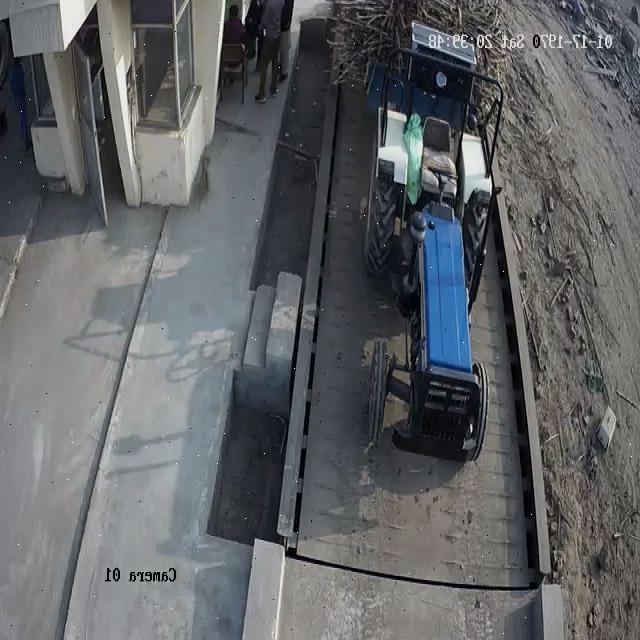Tratores - v5 YOLO V8L 2024-11-13: (354, 52, 506, 468)
